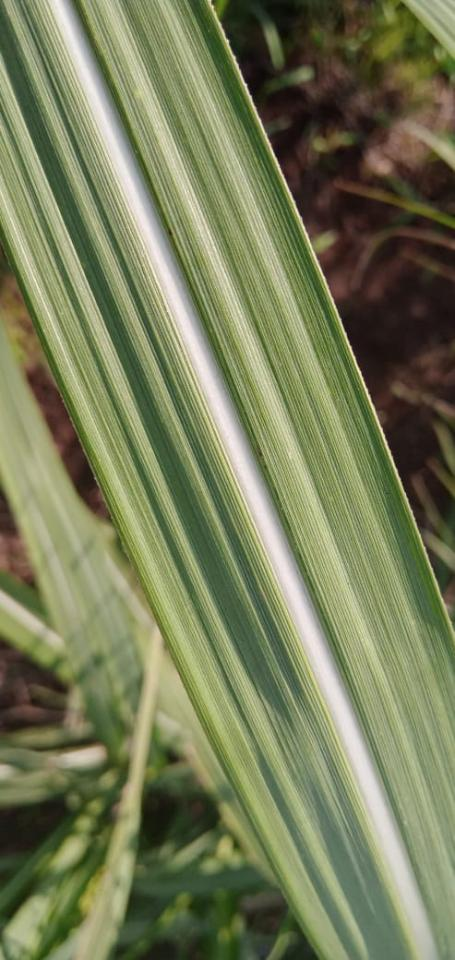Healthy: (0, 0, 415, 959), (76, 0, 454, 959)
